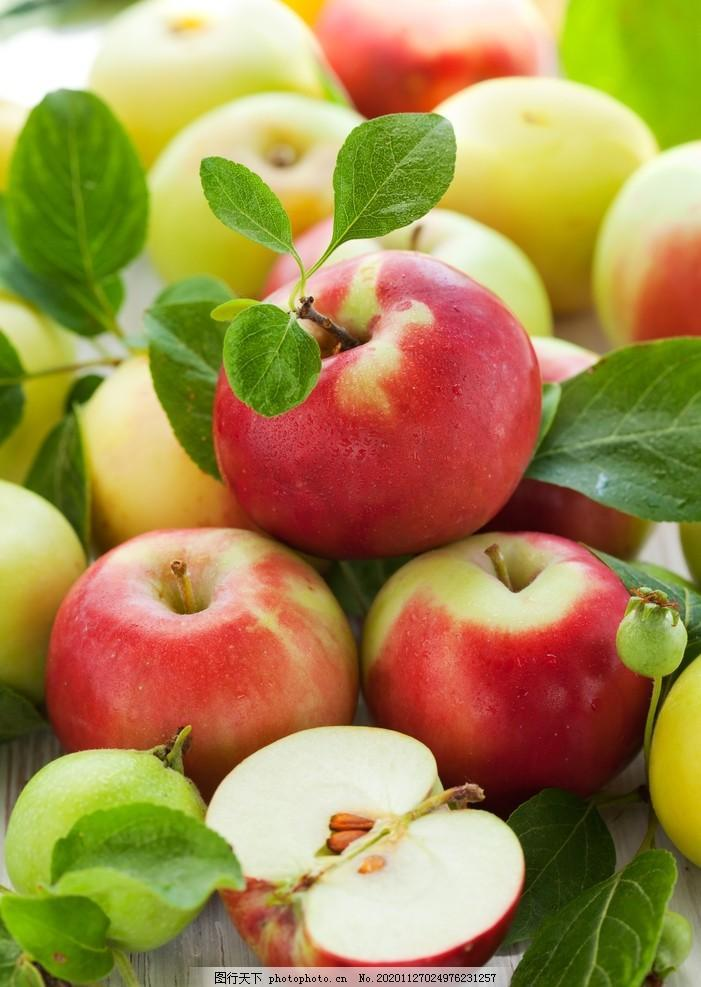apple: (215, 228, 546, 548), (349, 525, 657, 803), (39, 515, 352, 763)
